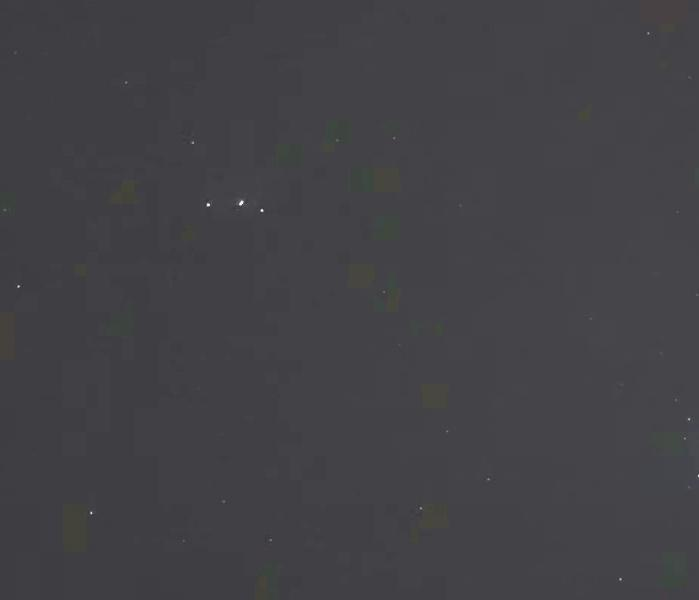Plane: (195, 187, 281, 209)
